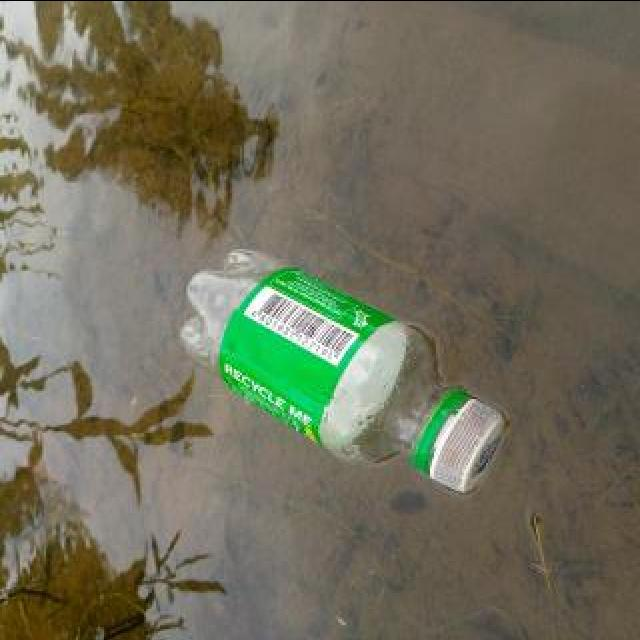Bottle: (173, 242, 515, 499)
